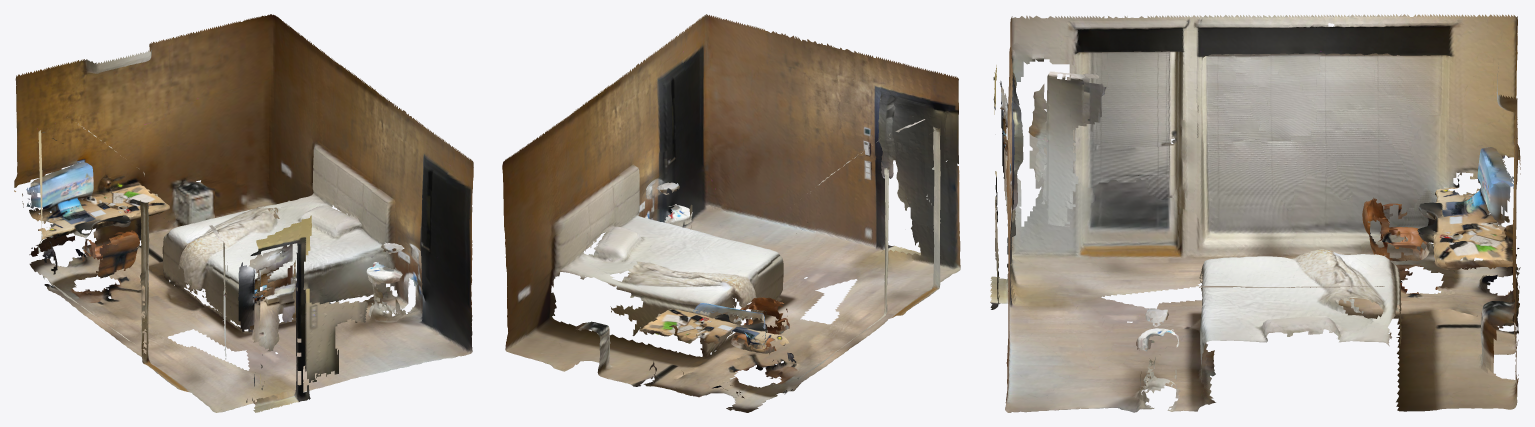
Rendered from master_scan.glb.
3 renders of one model, left to right at view 1: azimuth 30°, elevation 25°; view 2: azimuth 150°, elevation 25°; view 3: azimuth 270°, elevation 25°, orthographic. The views are drawn at different scales.
Parts seen in each view (by area): view 1: master_scan; view 2: master_scan; view 3: master_scan.
Boxes of the visible parts, bbox=[...] form: master_scan: bbox=[14, 14, 473, 412]; master_scan: bbox=[502, 14, 960, 412]; master_scan: bbox=[990, 14, 1520, 412].
Bounding box in the file's own units: 361 × 250 × 490.
1 material, 1 textured.
